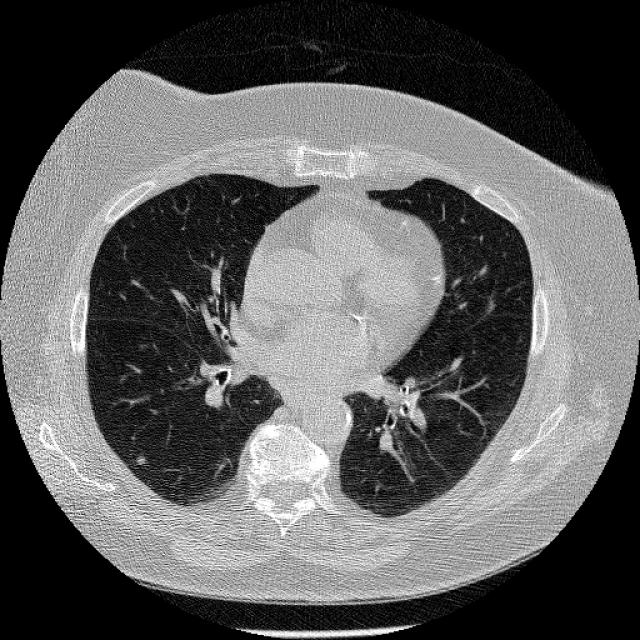nodule: (128, 446, 152, 472)
